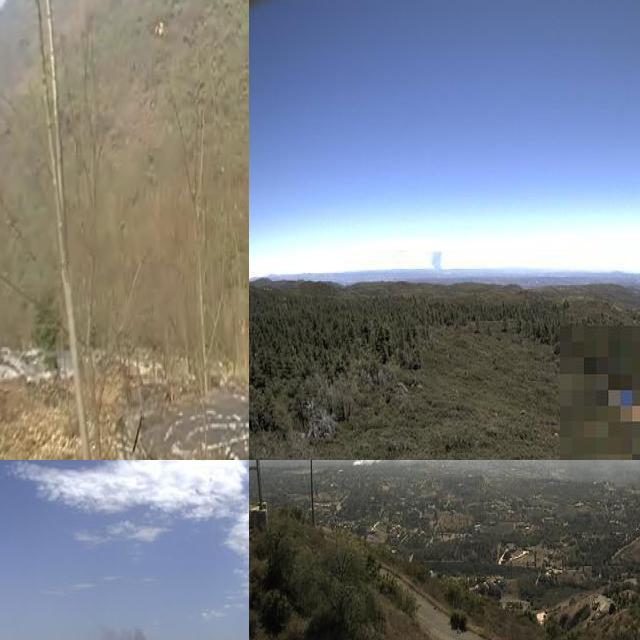smoke: (90, 618, 202, 640), (427, 248, 448, 281), (349, 460, 403, 468)
